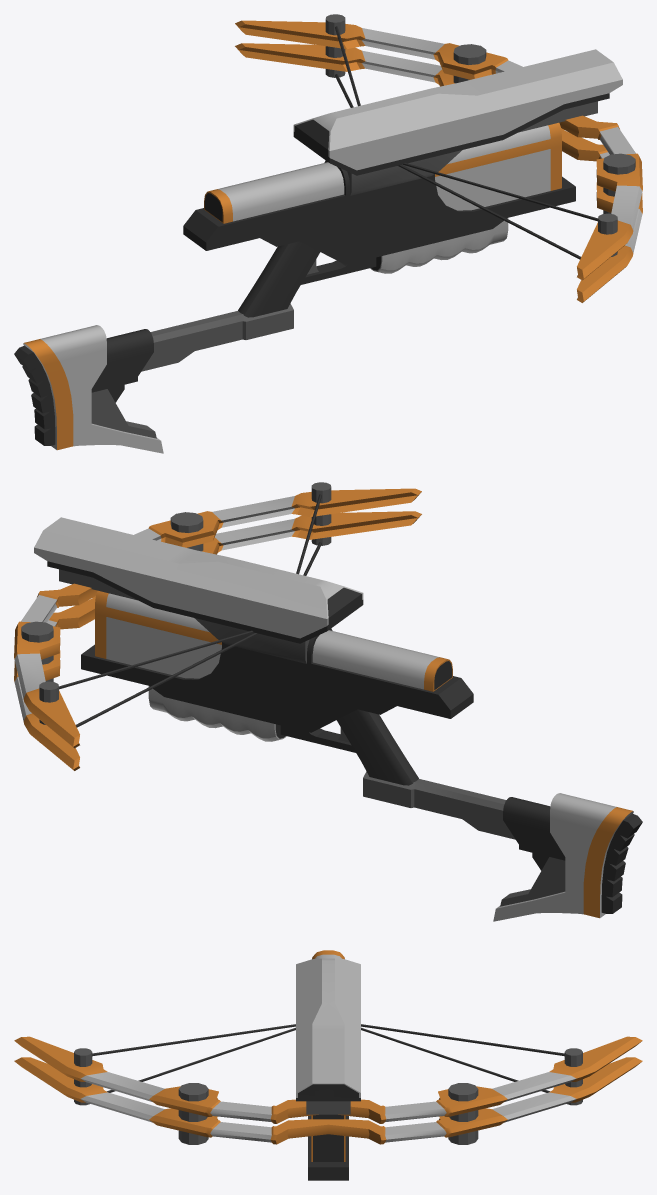
Rendered from crossbow_1.glb.
3 renders of one model, top to bottom at view 1: azimuth 30°, elevation 25°; view 2: azimuth 150°, elevation 25°; view 3: azimuth 270°, elevation 25°, orthographic. The views are drawn at different scales.
Parts seen in each view (by area): view 1: Crossbow_1; view 2: Crossbow_1; view 3: Crossbow_1.
Part boxes in pixels (bbox=[...]): Crossbow_1: bbox=[14, 14, 642, 453]; Crossbow_1: bbox=[14, 482, 642, 921]; Crossbow_1: bbox=[14, 950, 642, 1180].
Size of the model in its own units: 1.86 by 0.8812 by 1.92.
